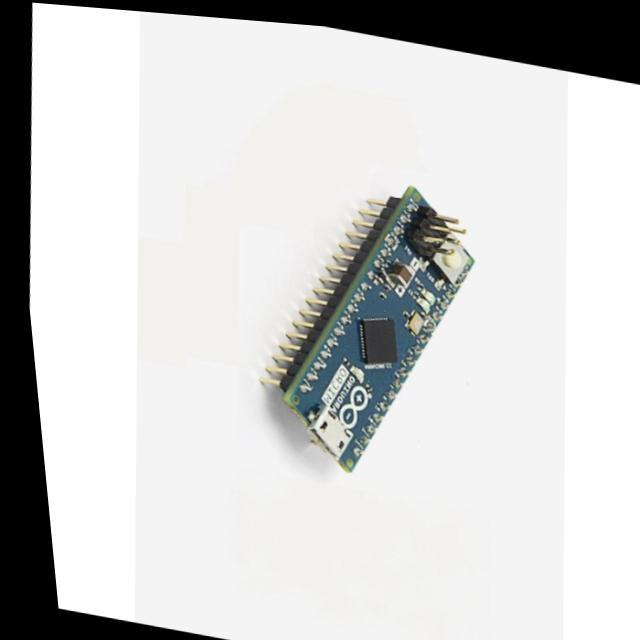Arduino-Micro: (267, 189, 474, 472)
